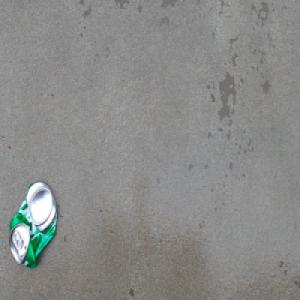SodaCan: (8, 177, 59, 270)
